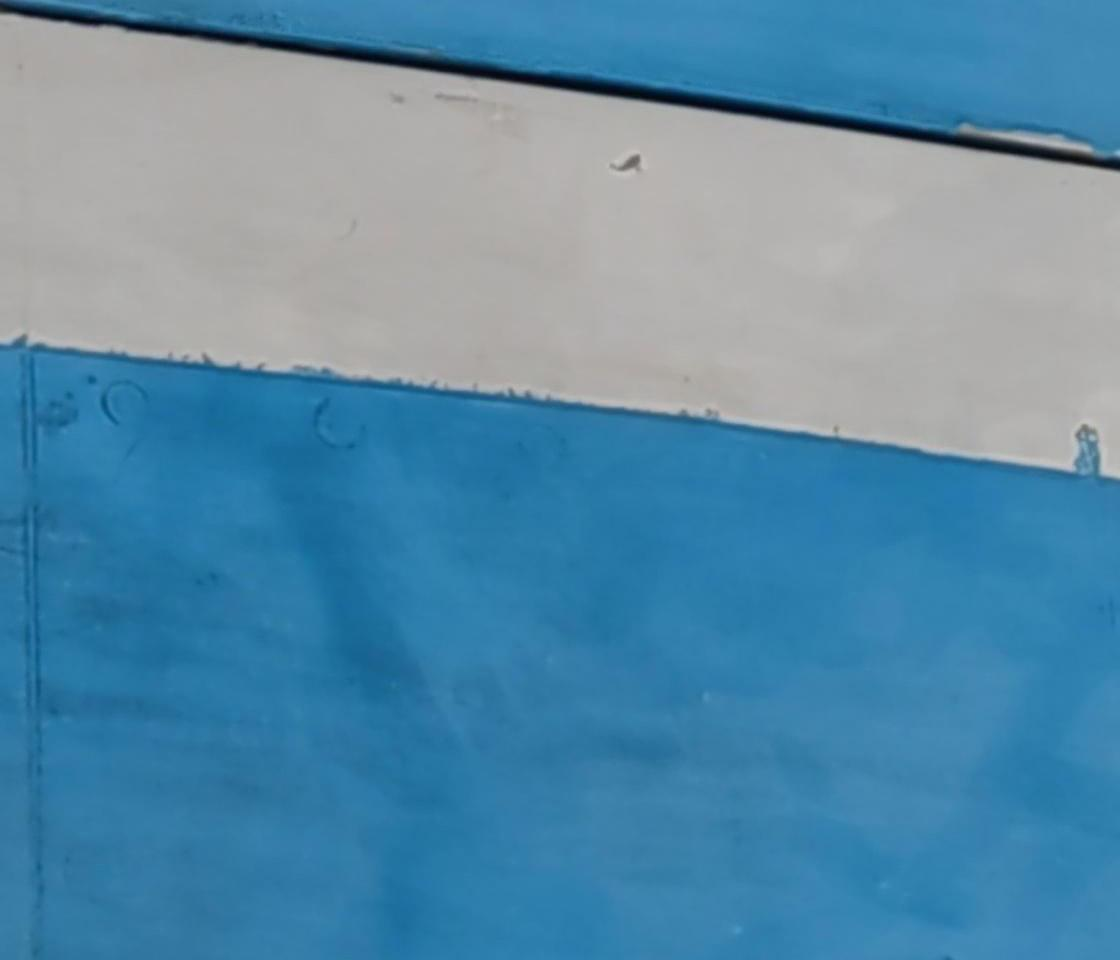scratch: (596, 150, 650, 175)
